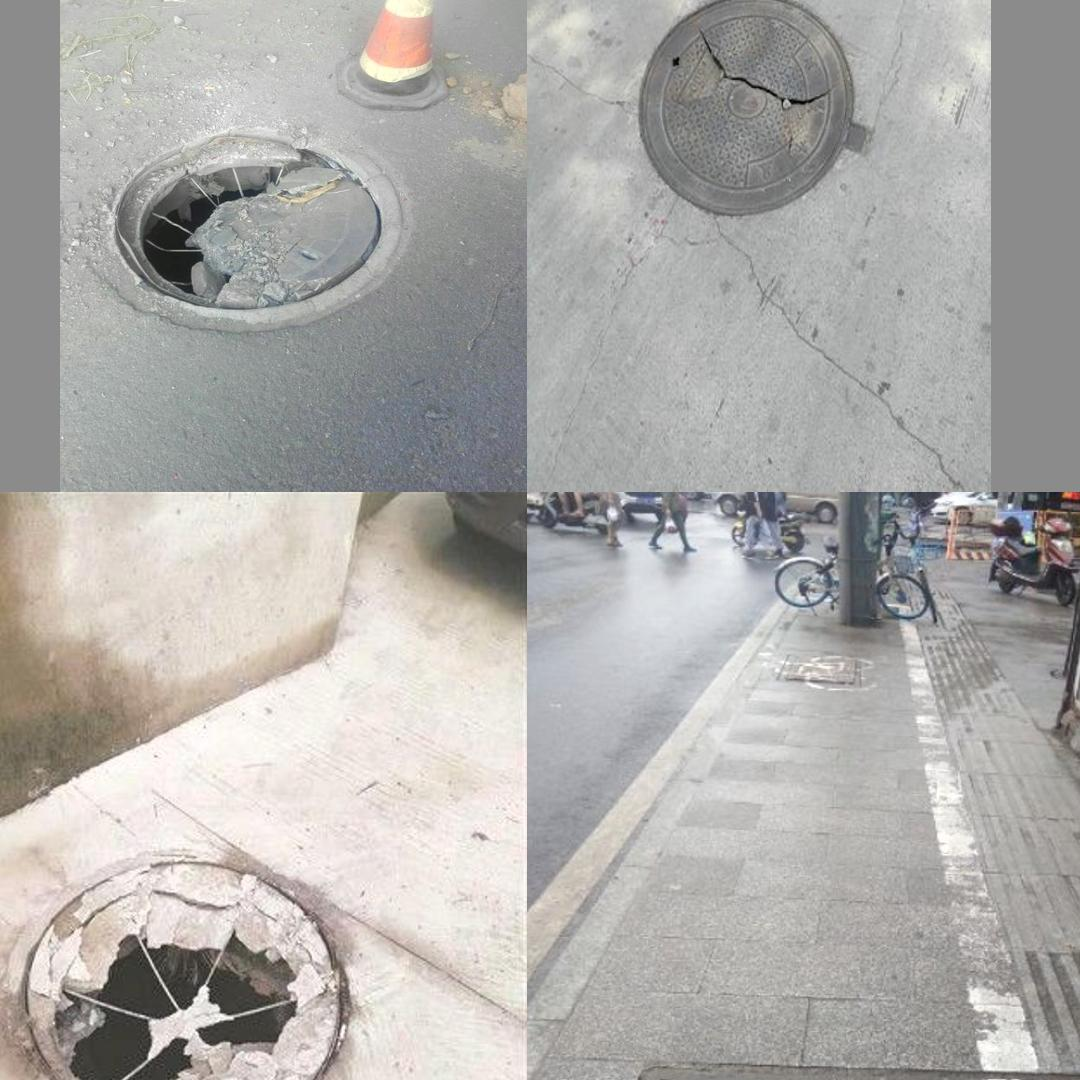broke: (0, 829, 372, 1080), (74, 110, 414, 327), (634, 0, 872, 225), (567, 1067, 1080, 1080)
good: (1044, 1074, 1080, 1080)
